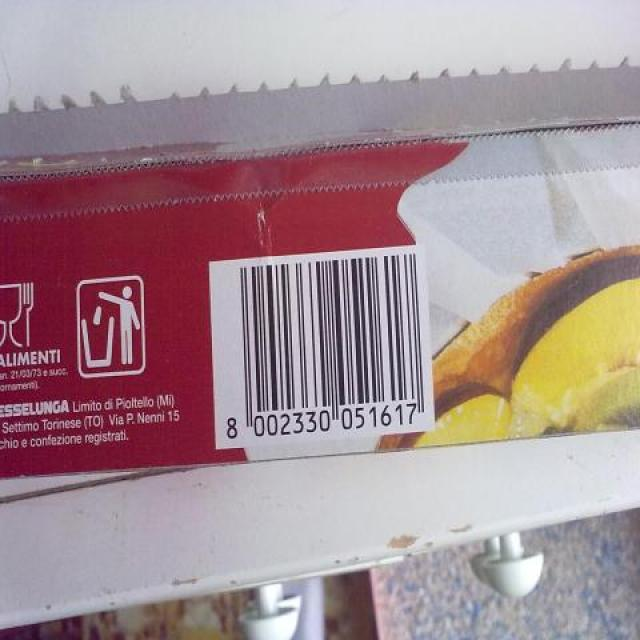Barcode: (207, 244, 437, 452)
